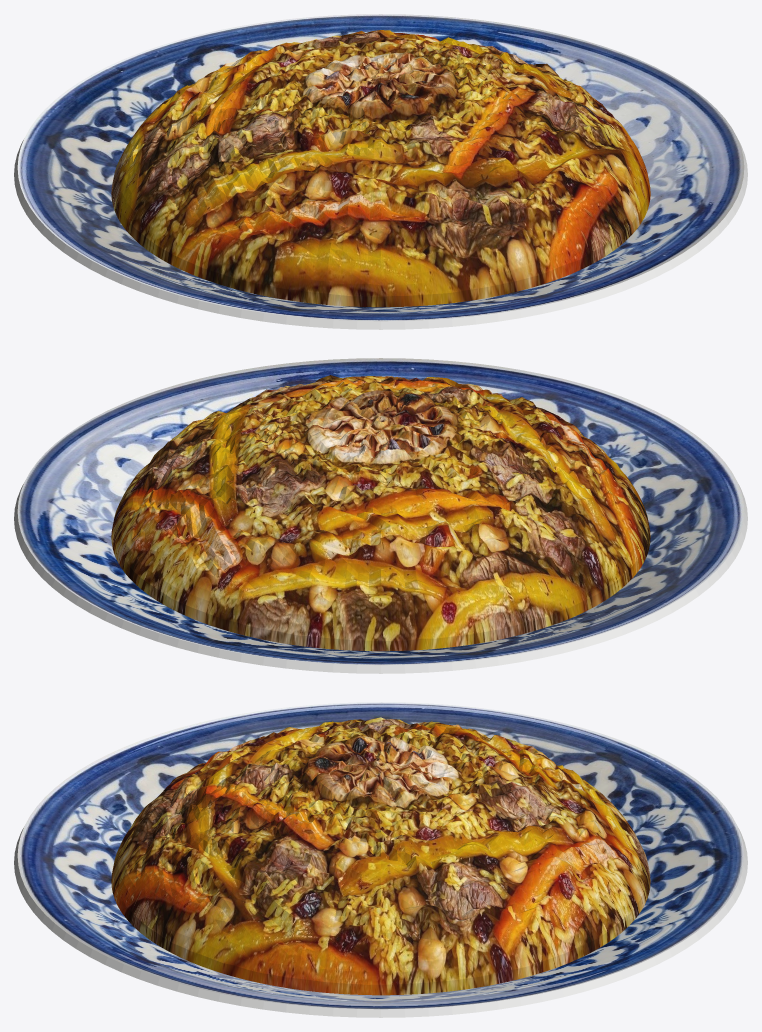
Rendered from osh.glb.
3 views of the same model, one above another, from view 1: azimuth 30°, elevation 25°; view 2: azimuth 150°, elevation 25°; view 3: azimuth 270°, elevation 25° (orthographic).
Visible parts, largest first — view 1: osh_2, osh_0, osh_1; view 2: osh_2, osh_0, osh_1; view 3: osh_2, osh_0, osh_1.
Part boxes in pixels (bbox=[...]): osh_2: bbox=[111, 30, 650, 307]; osh_0: bbox=[17, 14, 744, 321]; osh_1: bbox=[14, 140, 747, 329]; osh_2: bbox=[111, 375, 650, 651]; osh_0: bbox=[17, 358, 744, 665]; osh_1: bbox=[14, 484, 747, 673]; osh_2: bbox=[111, 717, 650, 995]; osh_0: bbox=[17, 702, 744, 1009]; osh_1: bbox=[14, 828, 747, 1017].
Size of the model in its own units: 0.2828 by 0.0626 by 0.2828.
Materials: 3 (2 with a texture image).
